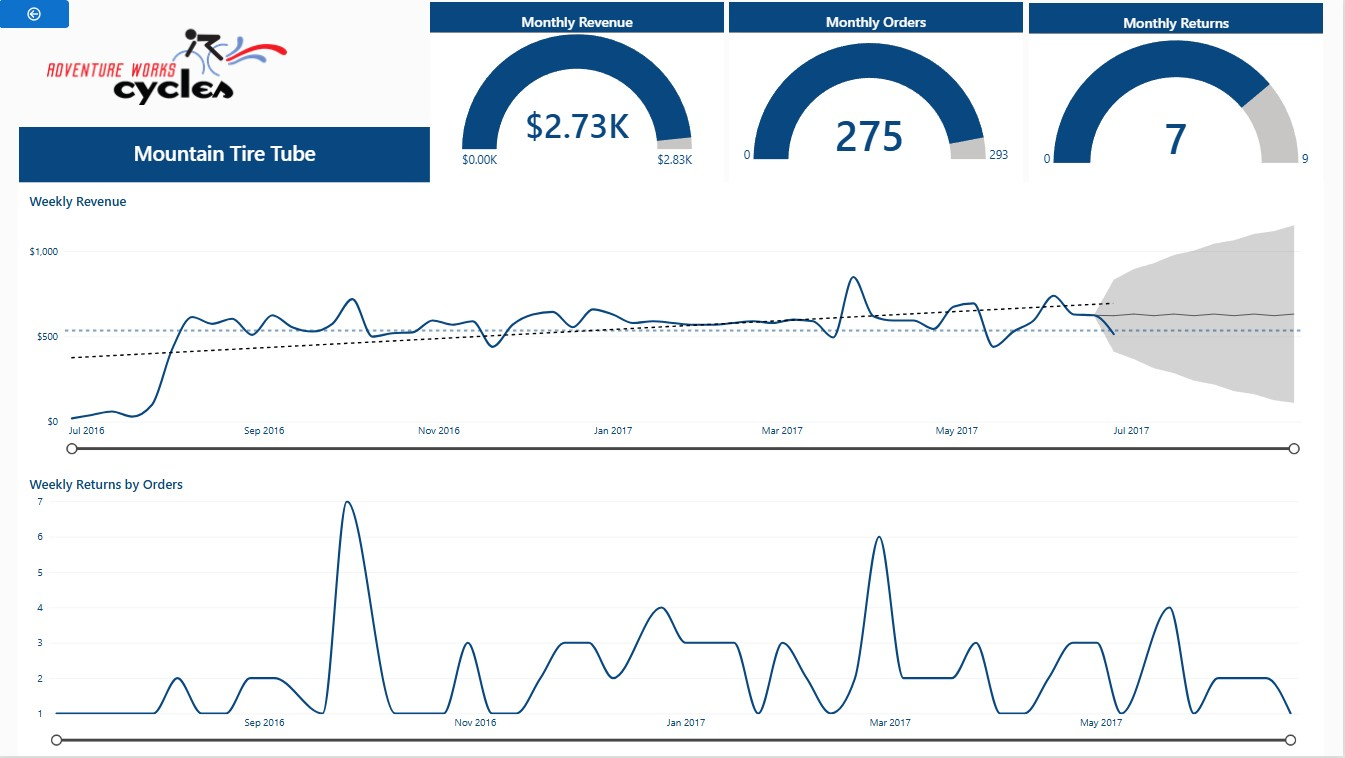

Layout of this report page (visuals, bound fields, positions):
{"tool":"powerbi","page":{"name":"Product Detail","canvas":[1920,1080],"ordinal":2},"visuals":[{"type":"lineChart","title":"Weekly Returns by Orders","fields":{"Category":["Calendar_Lookup.Start of Week"],"Y":["Returns Data.Total Retuens"]},"box":[27.5,665,1865,415],"z":0},{"type":"lineChart","title":"Weekly Revenue","fields":{"Category":["Calendar_Lookup.Start of Week"],"Y":["Sales Data.Total Revenue"]},"box":[27.5,260,1865,402.5],"z":1000},{"type":"gauge","title":"Monthly Revenue","fields":{"MaxValue":["Sales Data.Revenue Target"],"Y":["Sales Data.Total Revenue"]},"box":[615.7,2.9,420,257.1],"z":2000},{"type":"gauge","title":"Monthly Orders","fields":{"MaxValue":["Sales Data.Order Target"],"Y":["Sales Data.Total Orders"]},"box":[1042.9,2.9,420,257.1],"z":3000},{"type":"gauge","title":"Monthly Returns","fields":{"MaxValue":["Returns Data.Prev Month Return"],"Y":["Returns Data.Total Retuens"]},"box":[1471.4,4.3,420,255.7],"z":4000},{"type":"image","box":[121.4,10,347.1,171.4],"z":5000},{"type":"card","fields":{"Values":["Min(Products_Lookup.ProductName)"]},"box":[28.6,181.4,587.1,78.6],"z":6000},{"type":"actionButton","box":[0,0,62.9,55.7],"z":7000},{"type":"actionButton","box":[552.9,0,62.9,71.4],"z":8000}]}

Visuals, with their boxes in screenshot pixels (x1, y1, x2, y2), scaled from the page's 1920x1080 canvas onto the 1345x758 screenshot:
"Weekly Returns by Orders" lineChart: l=19, t=467, r=1326, b=757
"Weekly Revenue" lineChart: l=19, t=182, r=1326, b=465
"Monthly Revenue" gauge: l=431, t=2, r=726, b=182
"Monthly Orders" gauge: l=731, t=2, r=1025, b=182
"Monthly Returns" gauge: l=1031, t=3, r=1325, b=182
image: l=85, t=7, r=328, b=127
card - Min(Products_Lookup.ProductName): l=20, t=127, r=431, b=182
actionButton: l=0, t=0, r=44, b=39
actionButton: l=387, t=0, r=431, b=50
